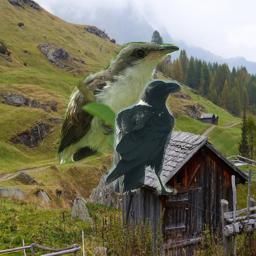Crow: (103, 79, 184, 195)
Cuckoo: (54, 41, 179, 167)
